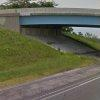Bridge: (4, 4, 100, 33)
